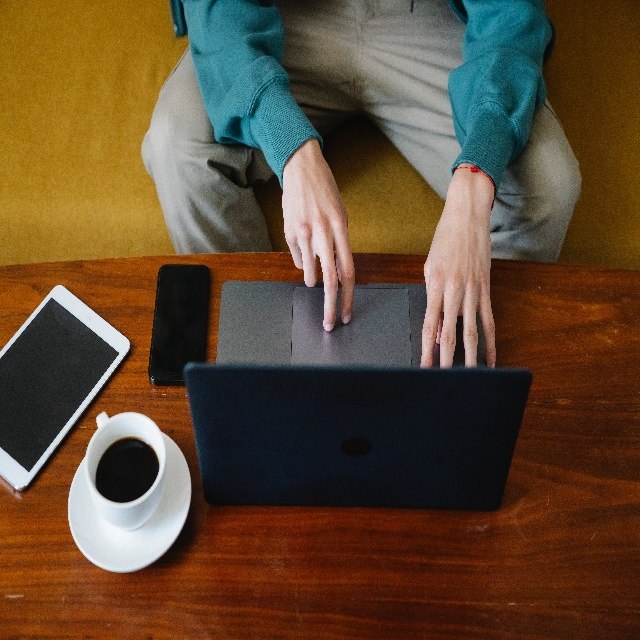Sin_guantes: (419, 177, 497, 370), (279, 156, 355, 336)
